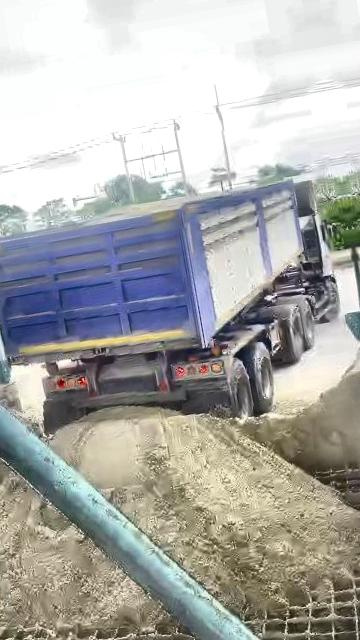sand: (51, 408, 360, 613), (0, 475, 164, 628), (236, 361, 360, 471), (102, 196, 198, 218), (14, 410, 41, 436), (0, 428, 8, 500)
